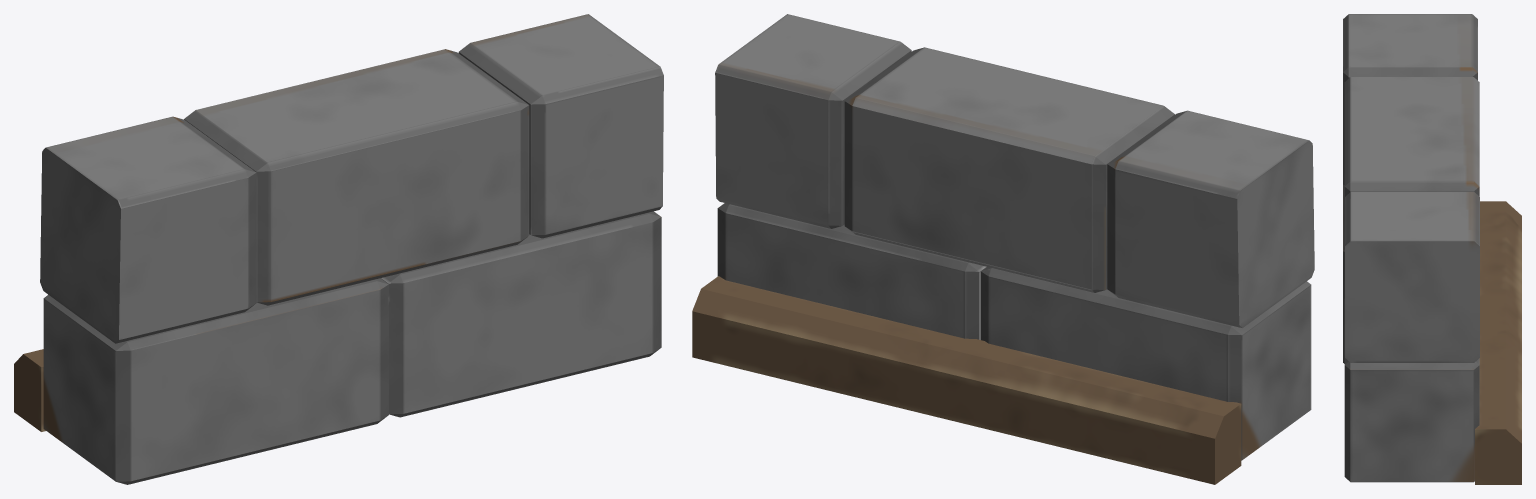
Rendered from house_collection_2.fbx.
The picture shows the model from 3 angles, left to right: view 1: azimuth 30°, elevation 25°; view 2: azimuth 150°, elevation 25°; view 3: azimuth 270°, elevation 25°; orthographic projection. The views are drawn at different scales.
Visible parts, largest first — view 1: house_collection_2; view 2: house_collection_2; view 3: house_collection_2.
Boxes of the visible parts, <box> form: house_collection_2: <box>14,14,663,484</box>; house_collection_2: <box>692,14,1314,484</box>; house_collection_2: <box>1343,14,1521,484</box>.
Bounding box in the file's own units: 318 × 159 × 105.
